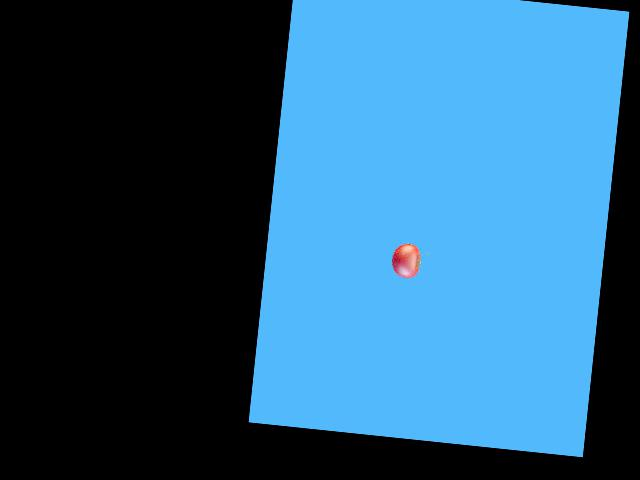tomato: (390, 242, 421, 279)
